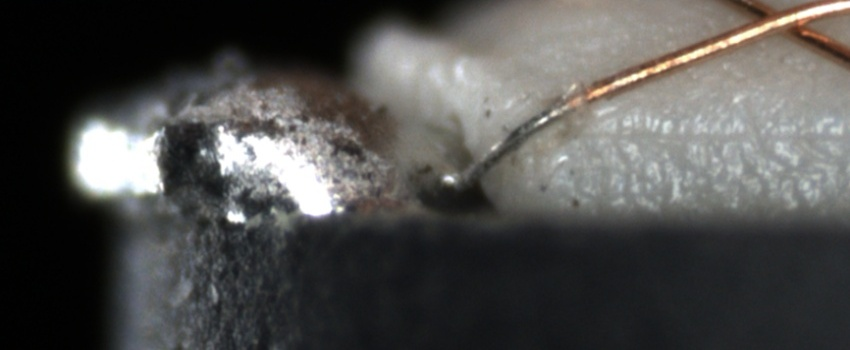CL: (721, 2, 835, 45)
DL: (551, 100, 850, 164)
TS: (460, 101, 571, 187)
TTCW: (435, 73, 596, 191)
